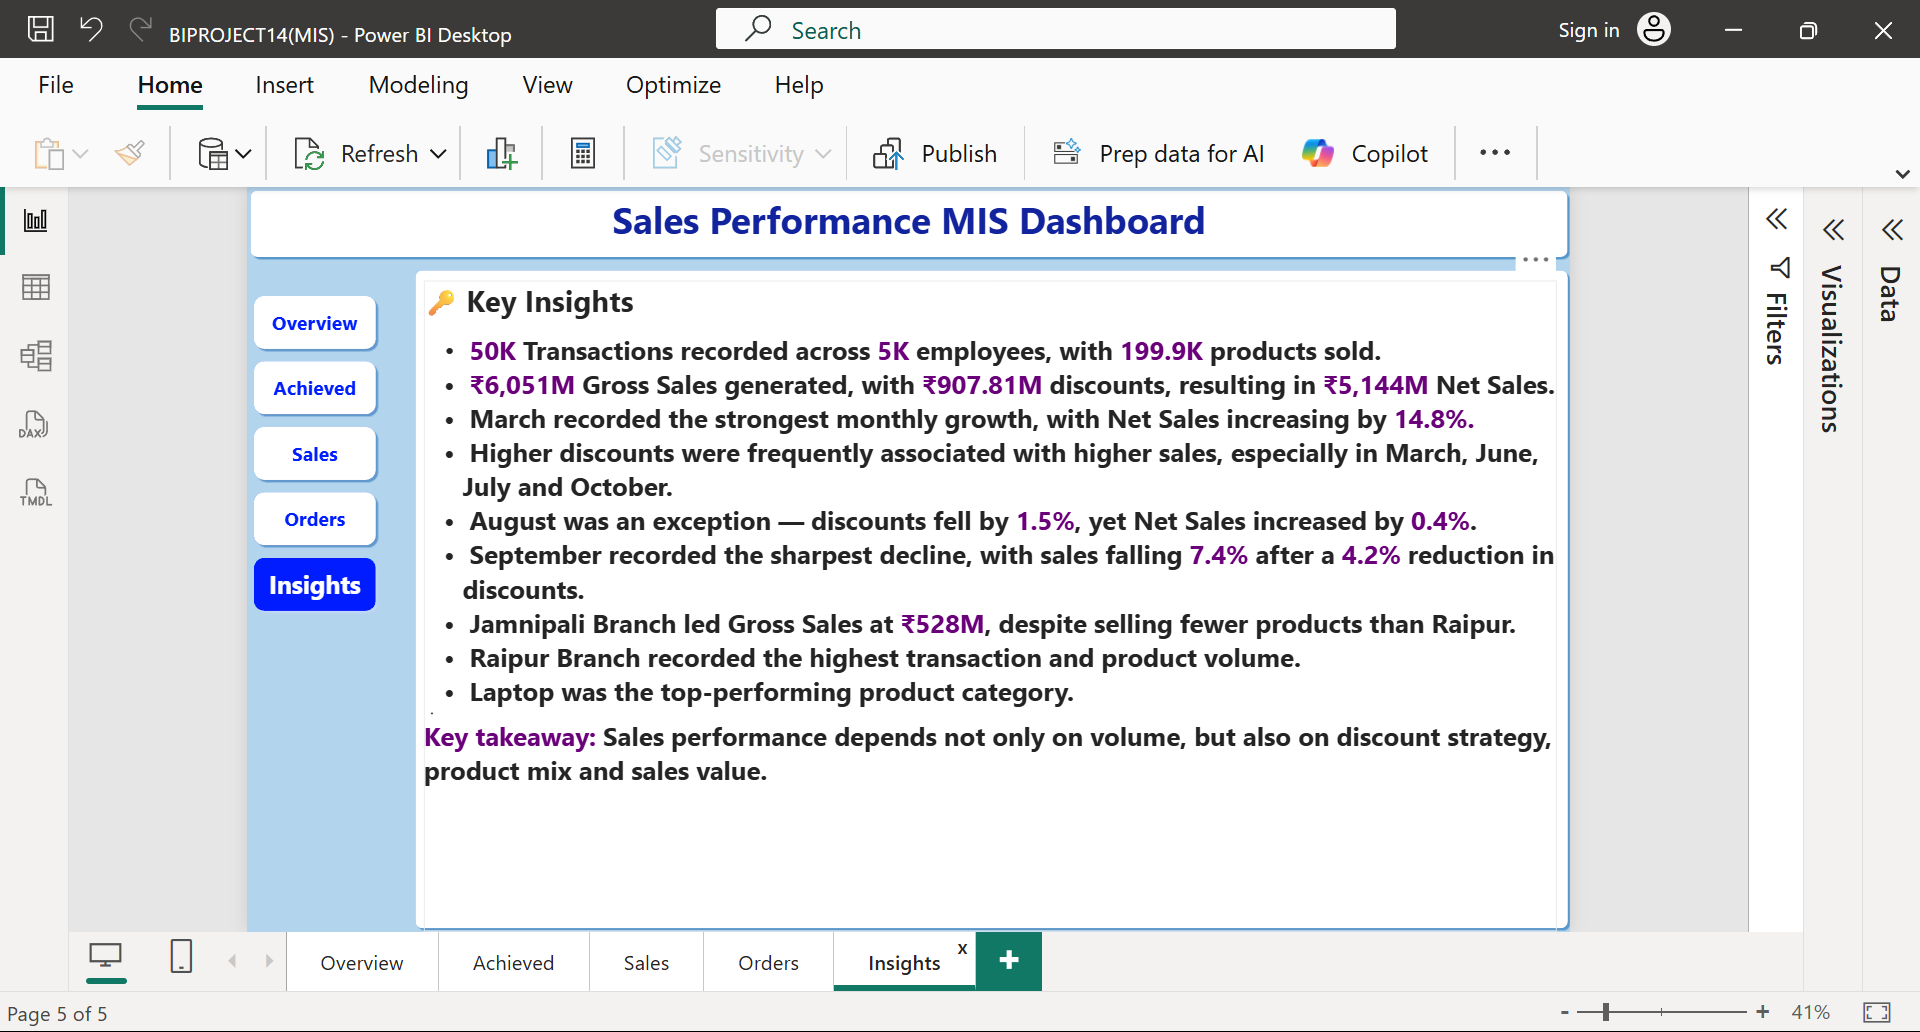

This screenshot's page, from the dashboard's own definition file:
{"tool":"powerbi","page":{"name":"Insights","canvas":[1920,1080],"ordinal":4},"visuals":[{"type":"shape","box":[0,0,1920,106.7],"z":0},{"type":"pageNavigator","box":[4.9,152.8,187.3,470.9],"z":1000},{"type":"shape","box":[239.1,115.9,1681.3,963.9],"z":2000},{"type":"textbox","box":[0,10,1920.2,105.8],"z":3000},{"type":"textbox","box":[256.4,135.6,1644.4,944.2],"z":4000}]}

Visuals, with their boxes on the page's 1920x1080 design canvas (x1, y1, x2, y2). These are canvas units, not pixel positions in the 1920x1032 screenshot, which may show the page scaled, cropped or inside an application window:
shape: left=0, top=0, right=1920, bottom=107
pageNavigator: left=5, top=153, right=192, bottom=624
shape: left=239, top=116, right=1920, bottom=1080
textbox: left=0, top=10, right=1920, bottom=116
textbox: left=256, top=136, right=1901, bottom=1080
